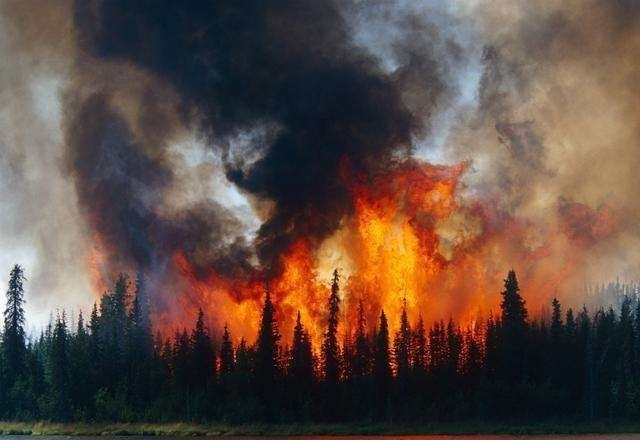fire: (122, 150, 634, 382)
